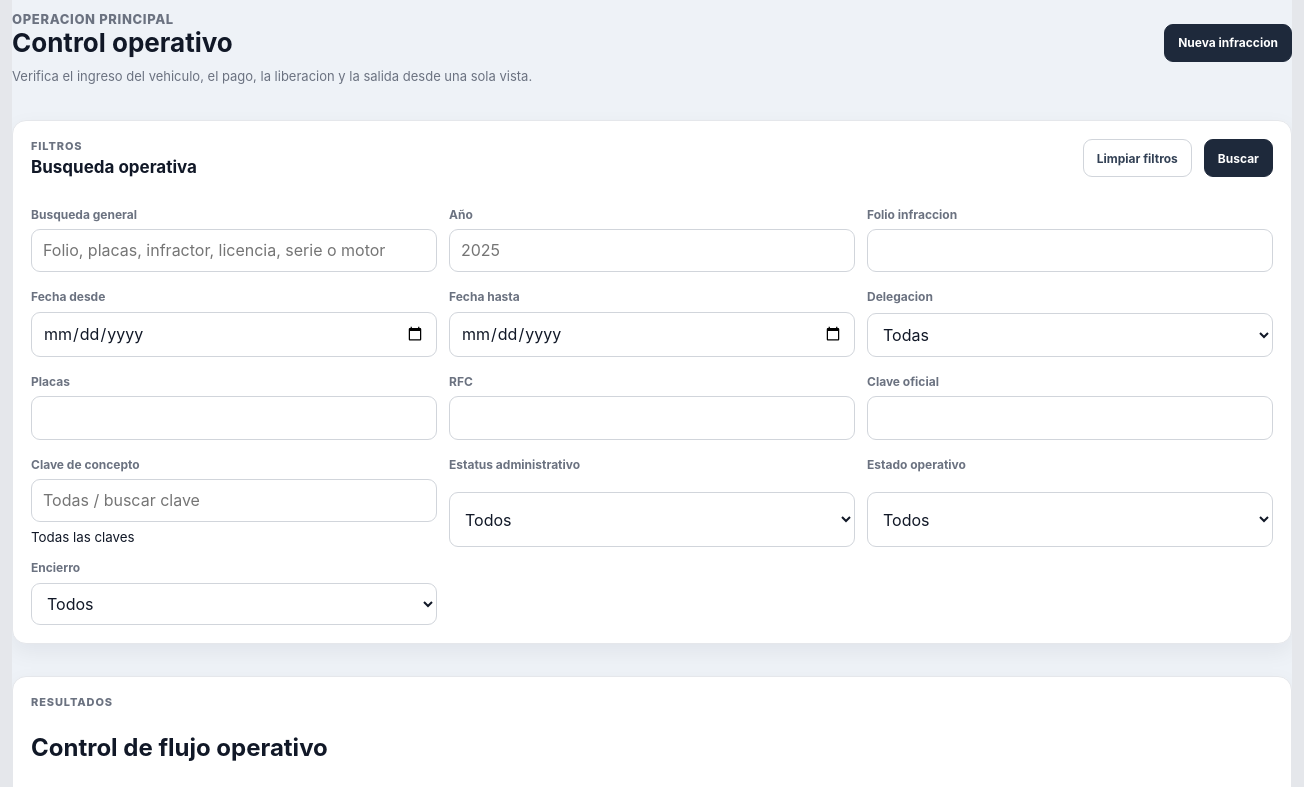
Scenario: InfraccionesListPage solventacion sin pago › restablece la clave de concepto al limpiar filtros
In the field labelled "Clave de concepto": coordinates (234, 501) [31,479,437,522], type "1EAAA002"
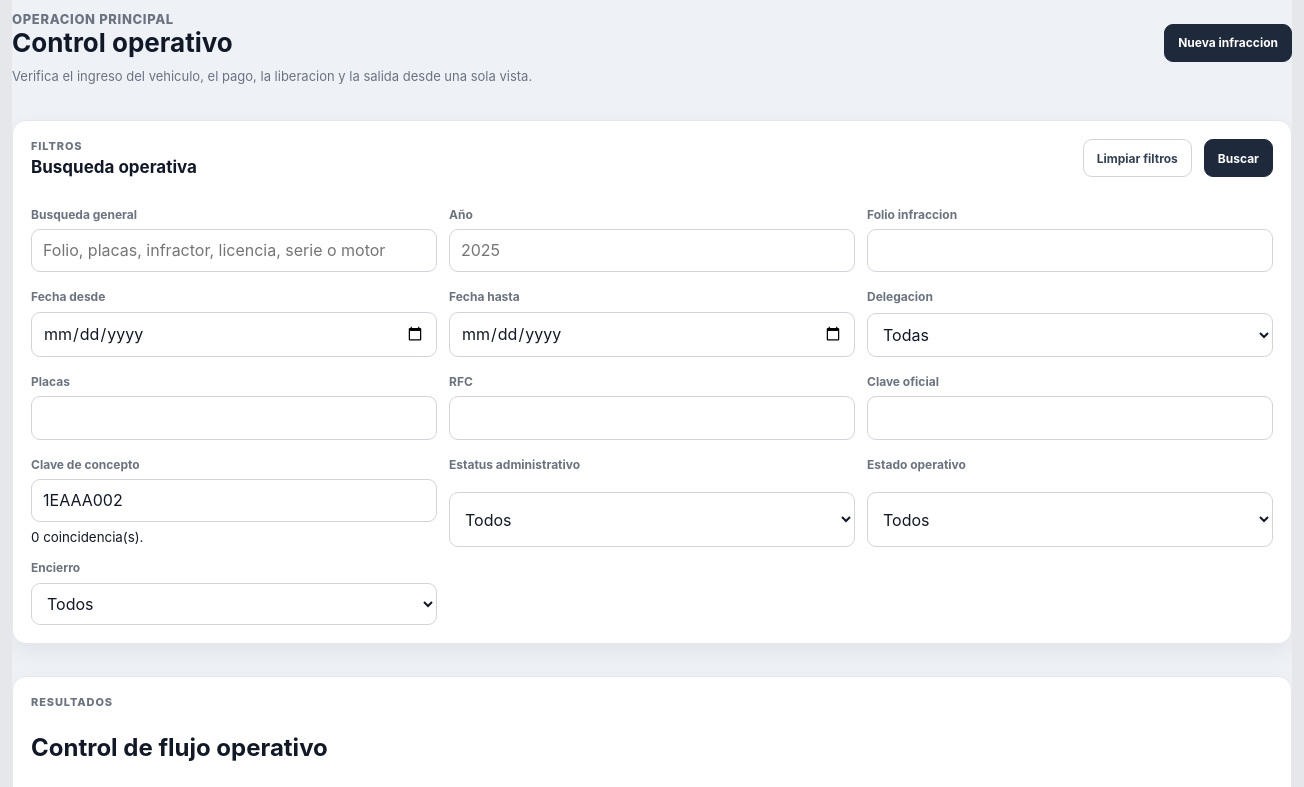
Click the button "Limpiar filtros": coordinates (1137, 158) [1083,139,1192,177]
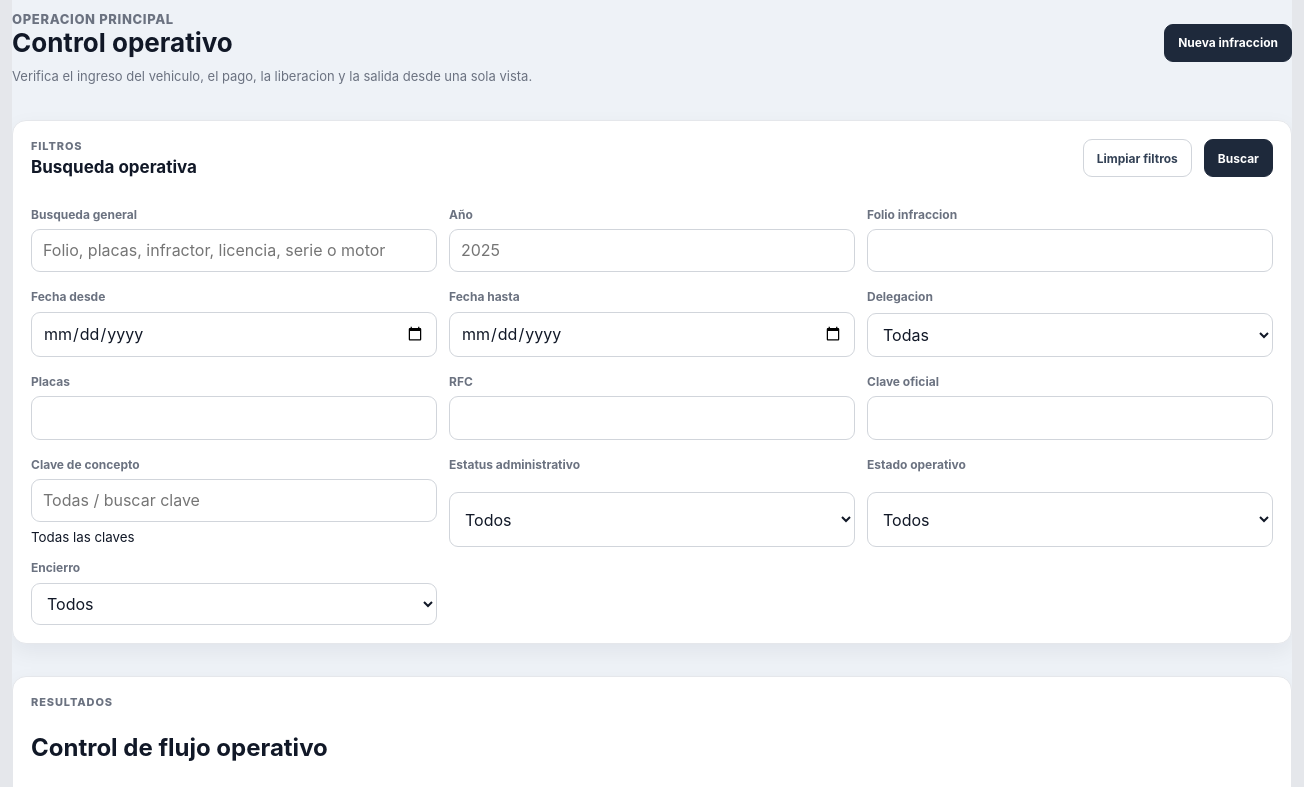
Result: the field labelled "Clave de concepto" is empty at [31,479,437,522]
Result: the text "Todas las claves" is shown at [31,529,135,545]
